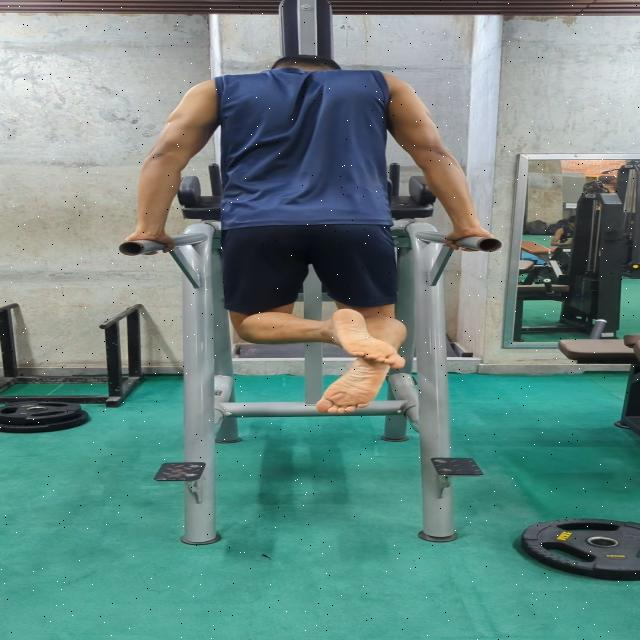Normal_Dips: (116, 53, 503, 422)
